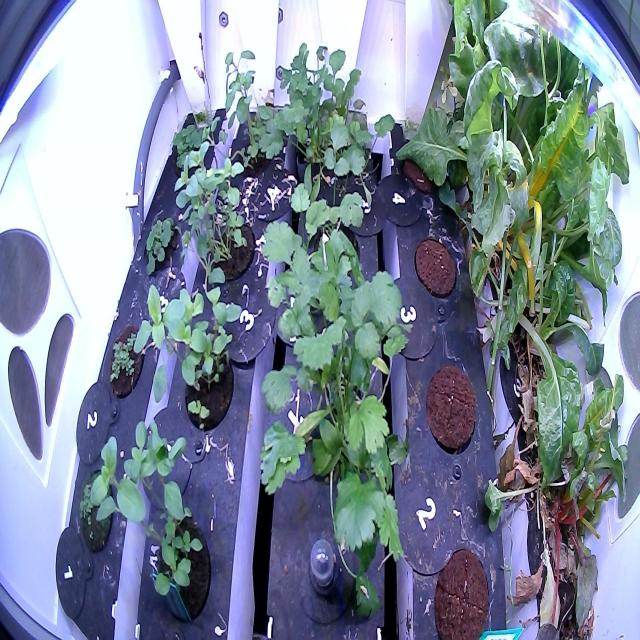germination: (71, 465, 122, 559), (105, 316, 152, 404)
pod: (429, 540, 492, 639), (423, 359, 481, 459), (411, 232, 462, 304)
